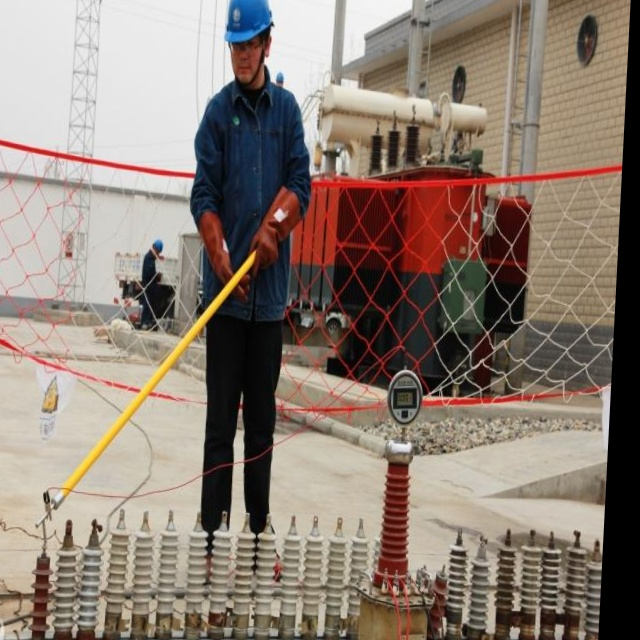Con_Casco: (224, 0, 276, 83)
Sin_Chaleco: (202, 83, 295, 309)
